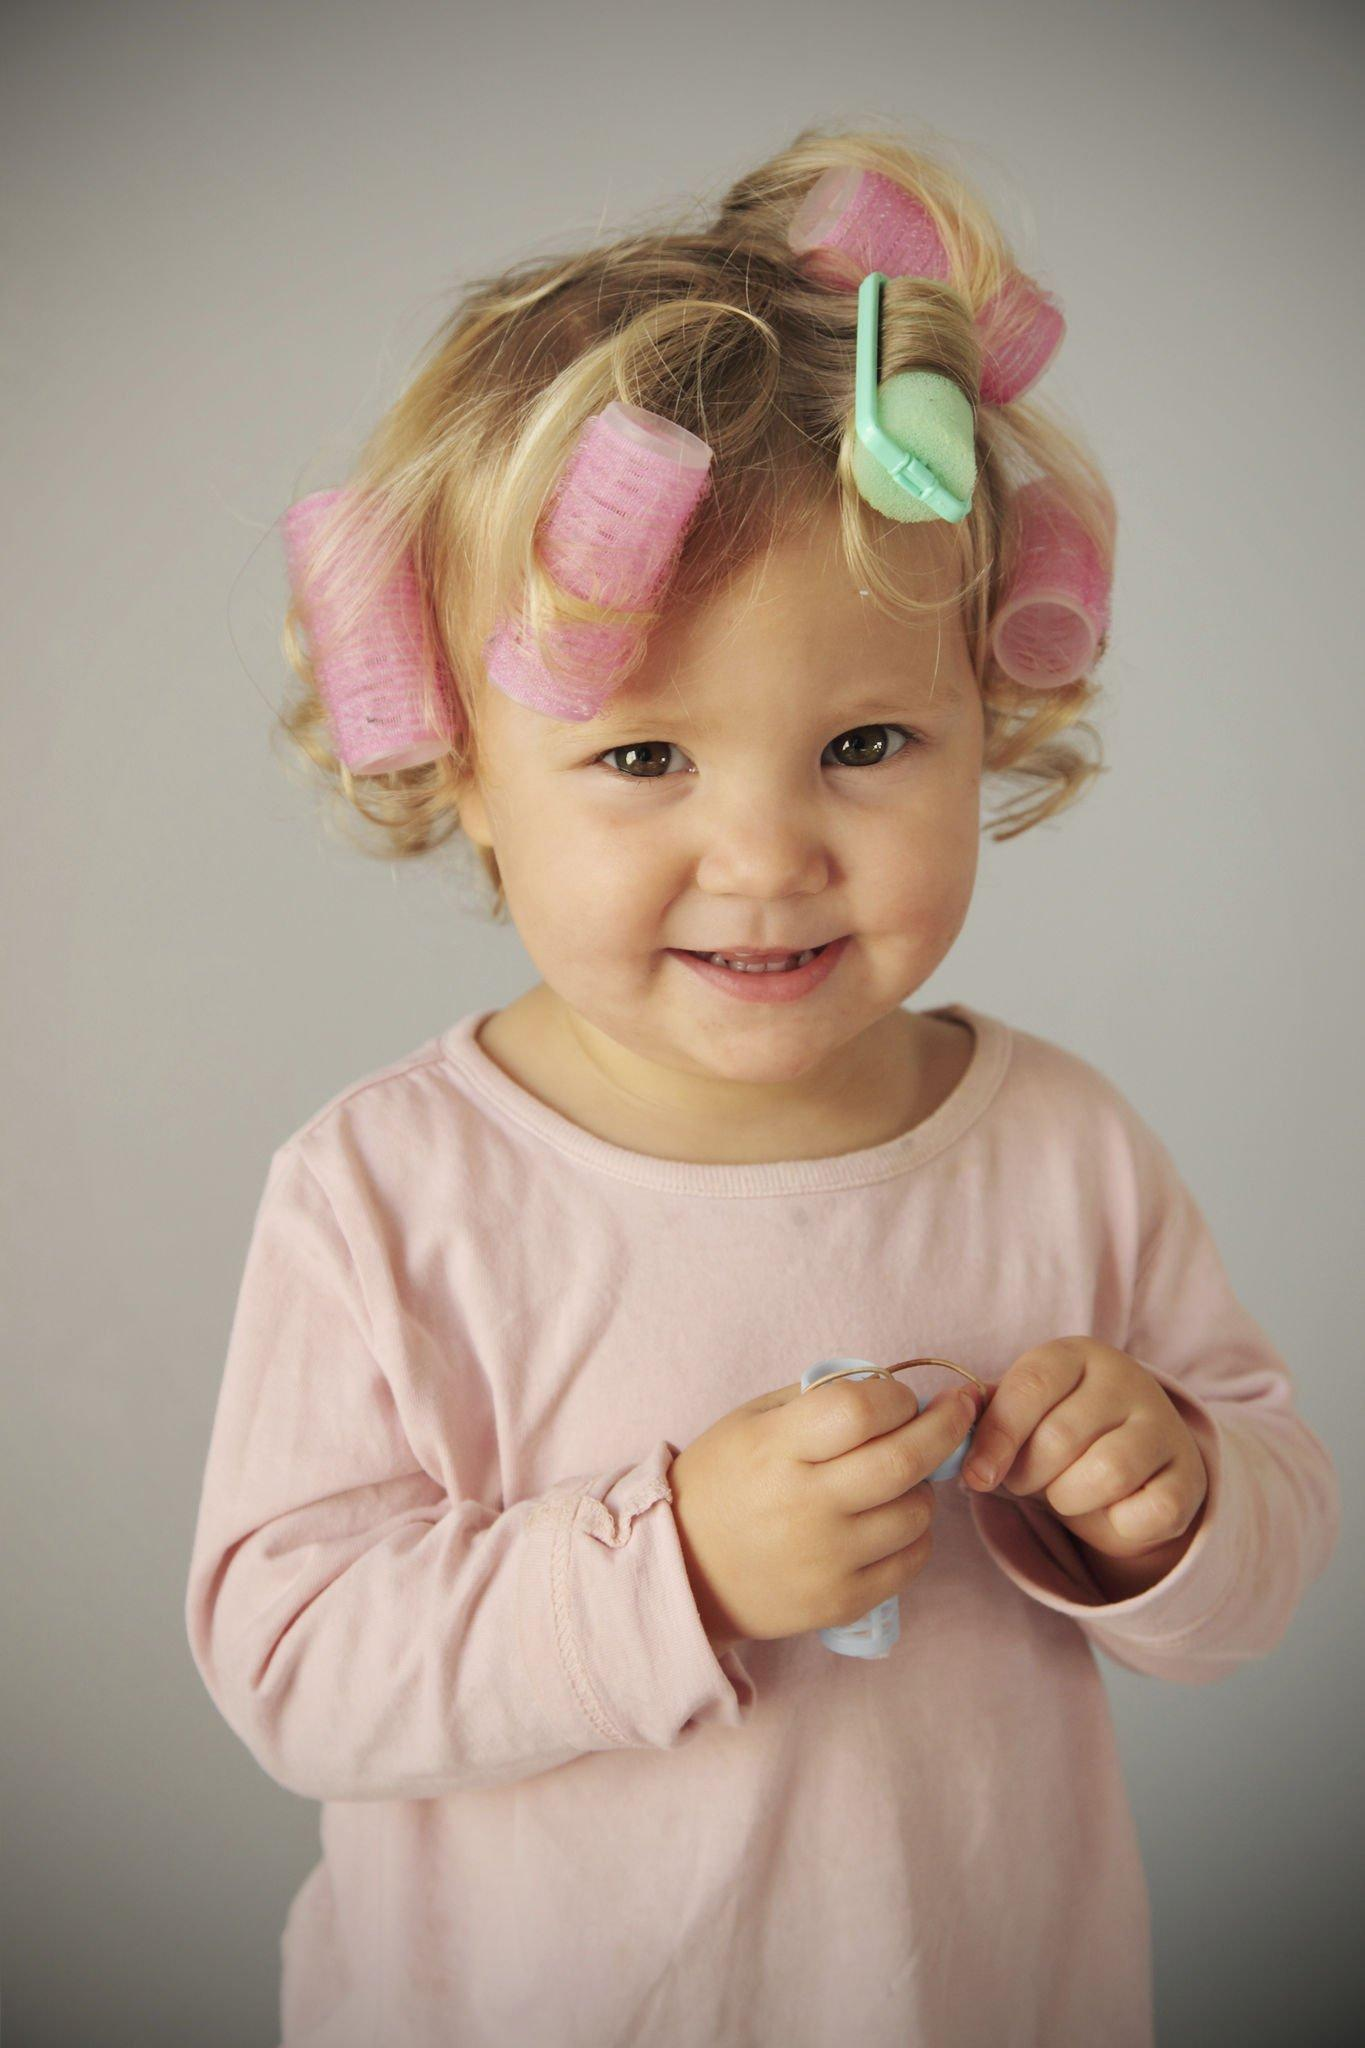Healthy: (422, 621, 1013, 1105)
